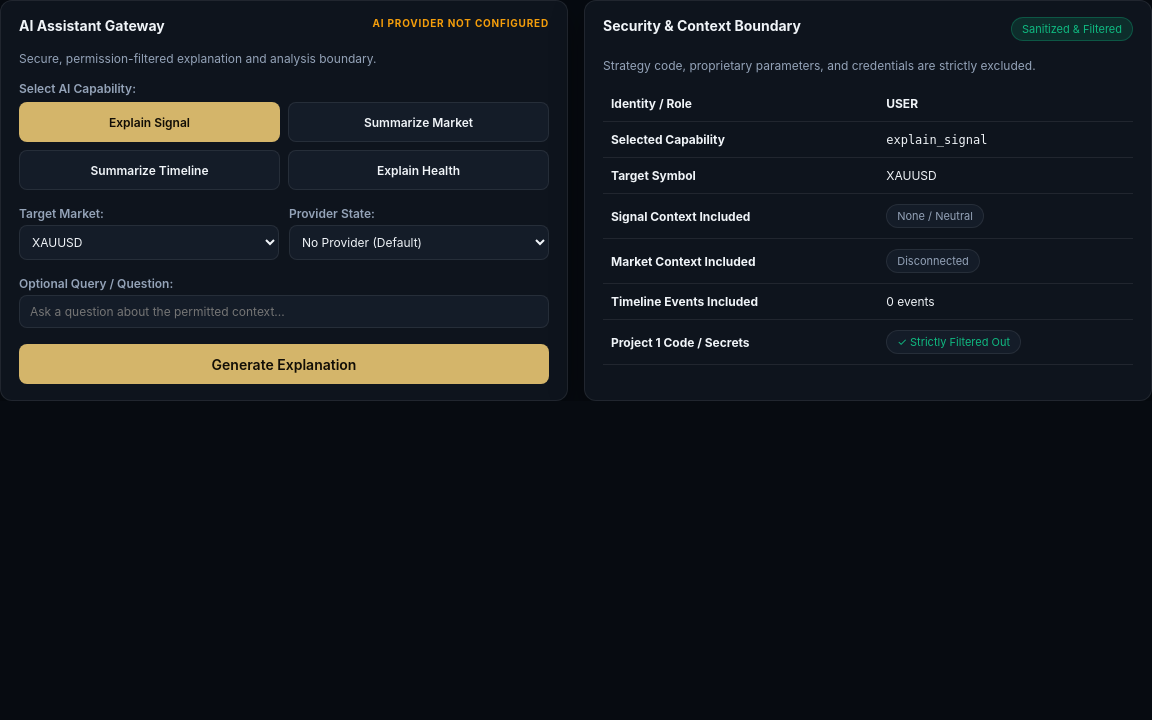
Scenario: AIAssistant UI Component › handles processing request in default unavailable state
Click the button "Generate Explanation" at (284, 364), box [19, 344, 549, 384]
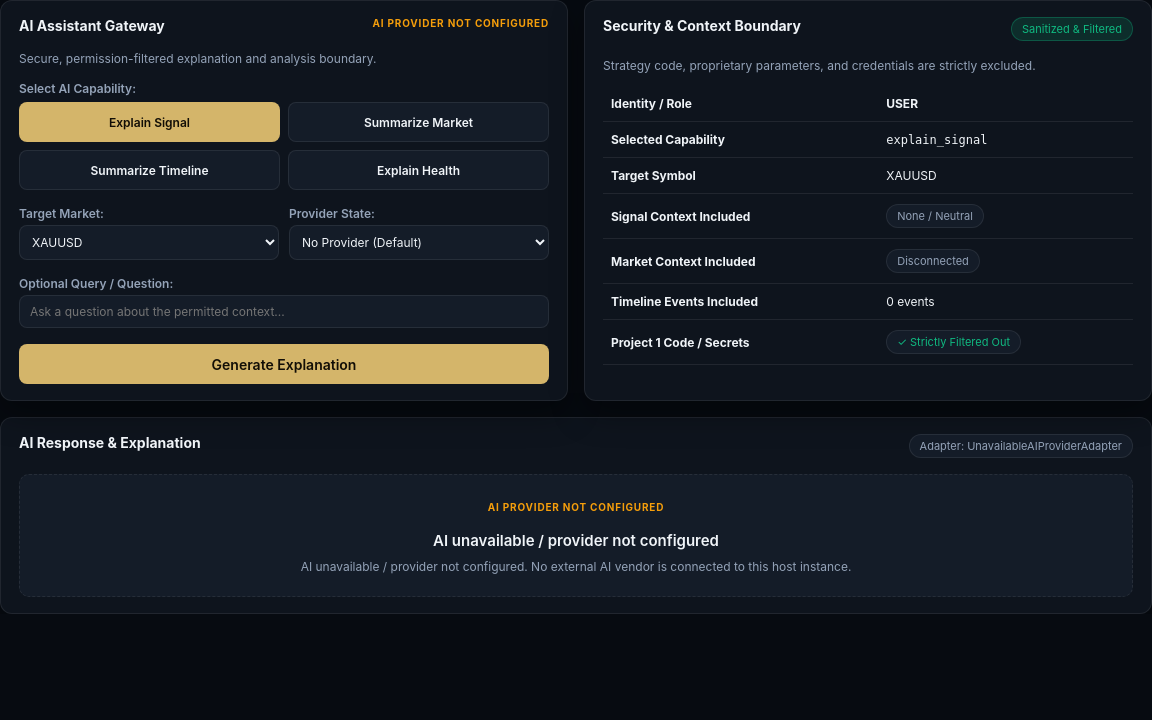
Expected: the text "AI unavailable / provider not configured" is shown, [433, 531, 719, 550]
